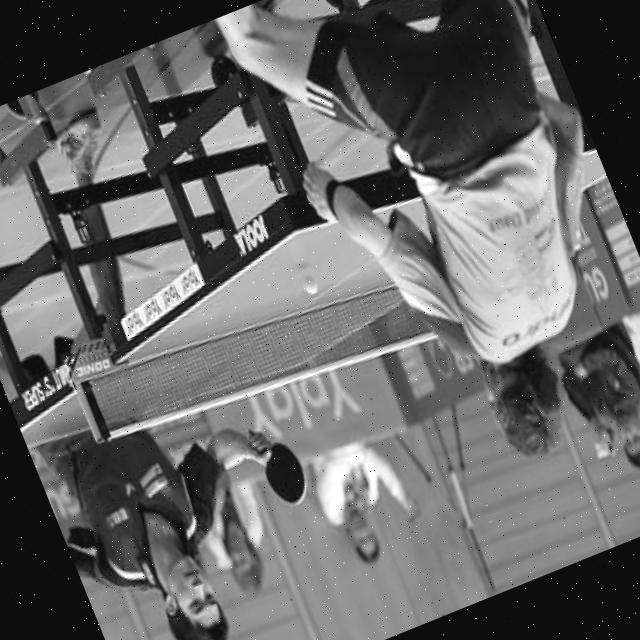ping-pong-ball: (298, 272, 319, 298)
